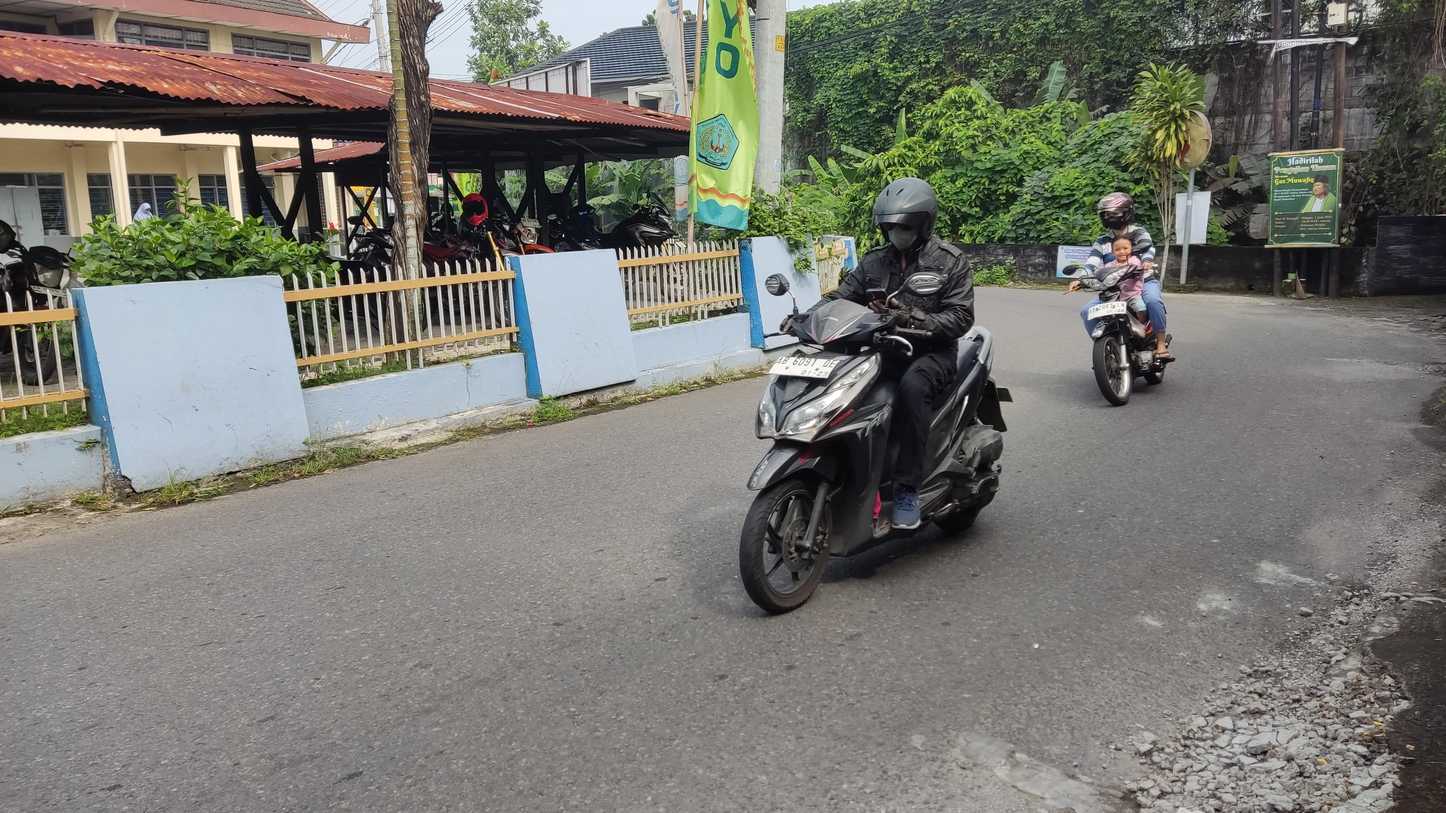helm: (871, 177, 942, 256), (1095, 193, 1137, 231)
nohelm: (1111, 234, 1134, 262)
riding: (737, 175, 1016, 614), (1062, 191, 1176, 408)
